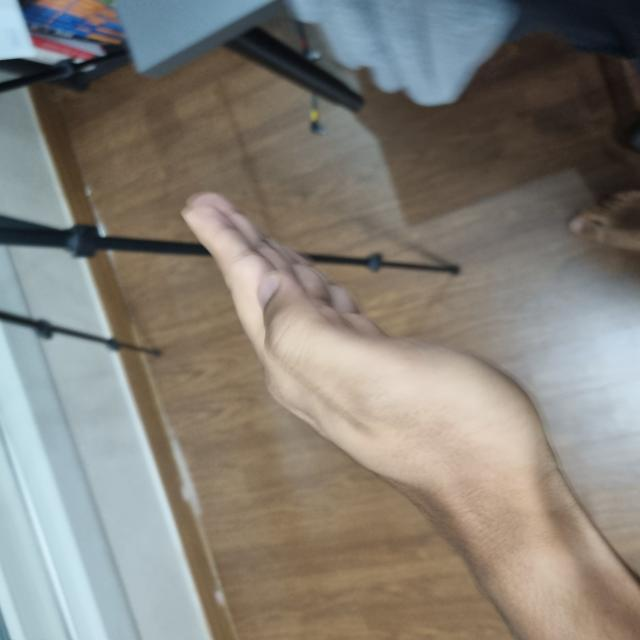Paper: (124, 179, 601, 626)
